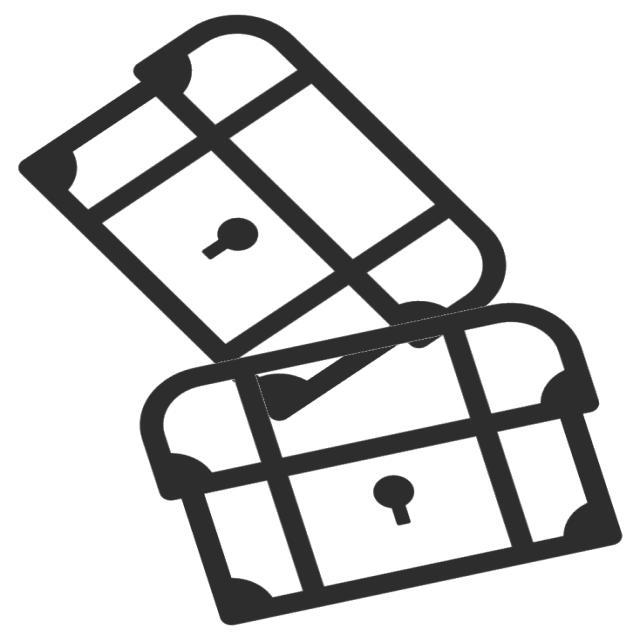treasure_box: (10, 6, 516, 426), (120, 294, 636, 634)
